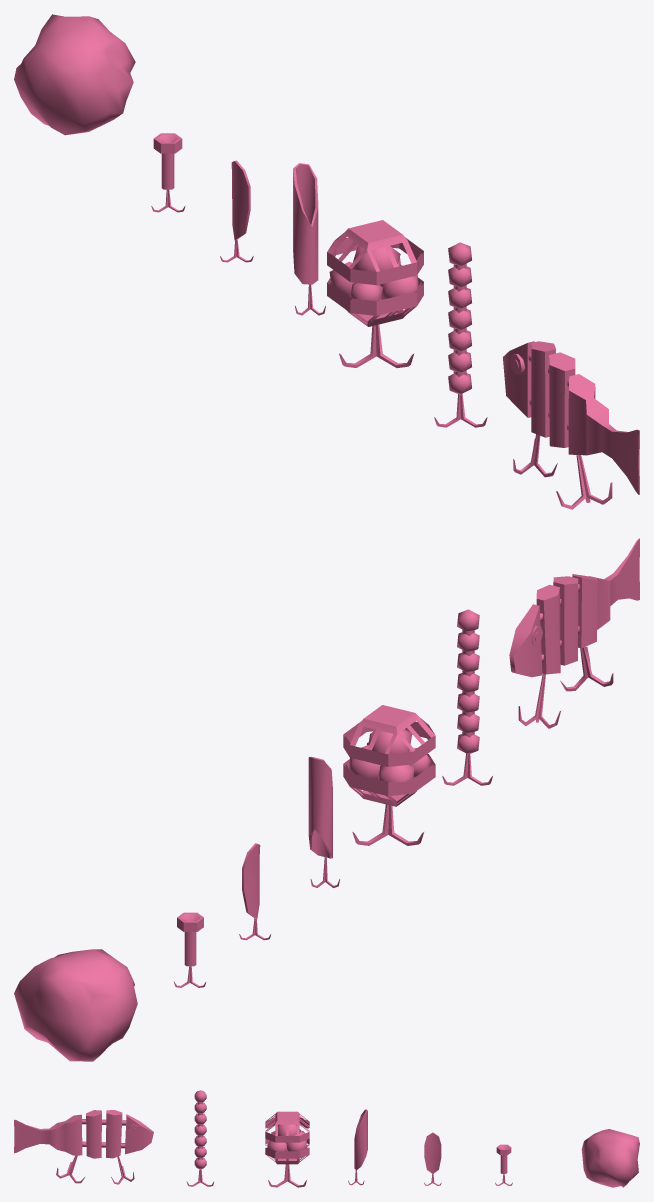
The model's file is lures_vfx.fbx.
The picture shows the model from 3 angles, top to bottom: view 1: azimuth 30°, elevation 25°; view 2: azimuth 150°, elevation 25°; view 3: azimuth 270°, elevation 25°; orthographic projection. The views are drawn at different scales.
Visible parts, largest first — view 1: lure_big, meat_particle, lure_blood, lure_rare, lure_medium, lure_oxy, lure_common; view 2: meat_particle, lure_big, lure_blood, lure_rare, lure_medium, lure_oxy, lure_common; view 3: lure_big, meat_particle, lure_blood, lure_rare, lure_medium, lure_oxy, lure_common.
Boxes of the visible parts, x1,y1,x2,y2 form: lure_big: (503, 341, 639, 509); meat_particle: (14, 14, 135, 135); lure_blood: (327, 220, 423, 367); lure_rare: (434, 242, 487, 427); lure_medium: (293, 163, 325, 315); lure_oxy: (220, 160, 253, 262); lure_common: (151, 133, 185, 212); meat_particle: (14, 949, 137, 1061); lure_big: (509, 538, 639, 728); lure_blood: (343, 705, 435, 845); lure_rare: (442, 609, 492, 785); lure_medium: (308, 756, 339, 887); lure_oxy: (239, 843, 271, 940); lure_common: (174, 912, 206, 987); lure_big: (14, 1110, 153, 1184); meat_particle: (581, 1129, 639, 1187); lure_blood: (265, 1111, 309, 1187); lure_rare: (186, 1090, 213, 1186); lure_medium: (348, 1109, 367, 1185); lure_oxy: (424, 1132, 441, 1185); lure_common: (495, 1144, 512, 1185).
Bounding box in the file's own units: 50.15 × 78.19 × 471.
